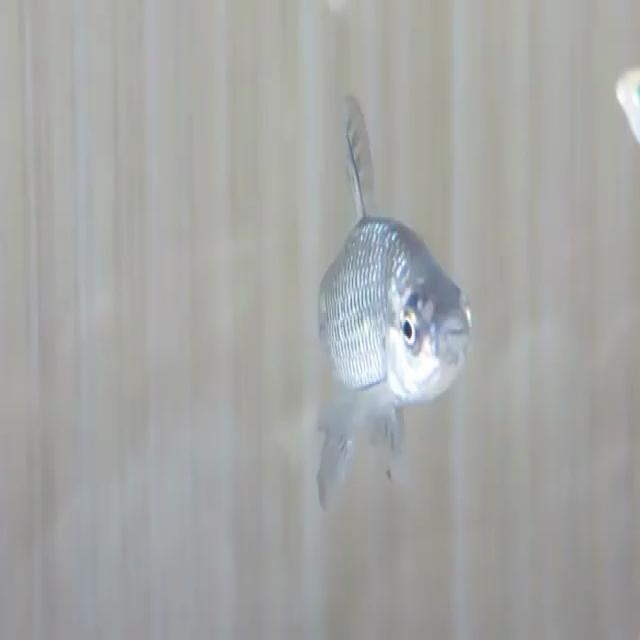Cakil Baligi: (310, 89, 474, 513)
